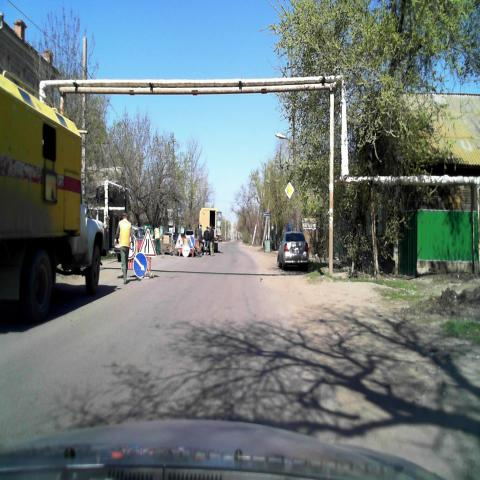1_20_3: (139, 229, 157, 256)
